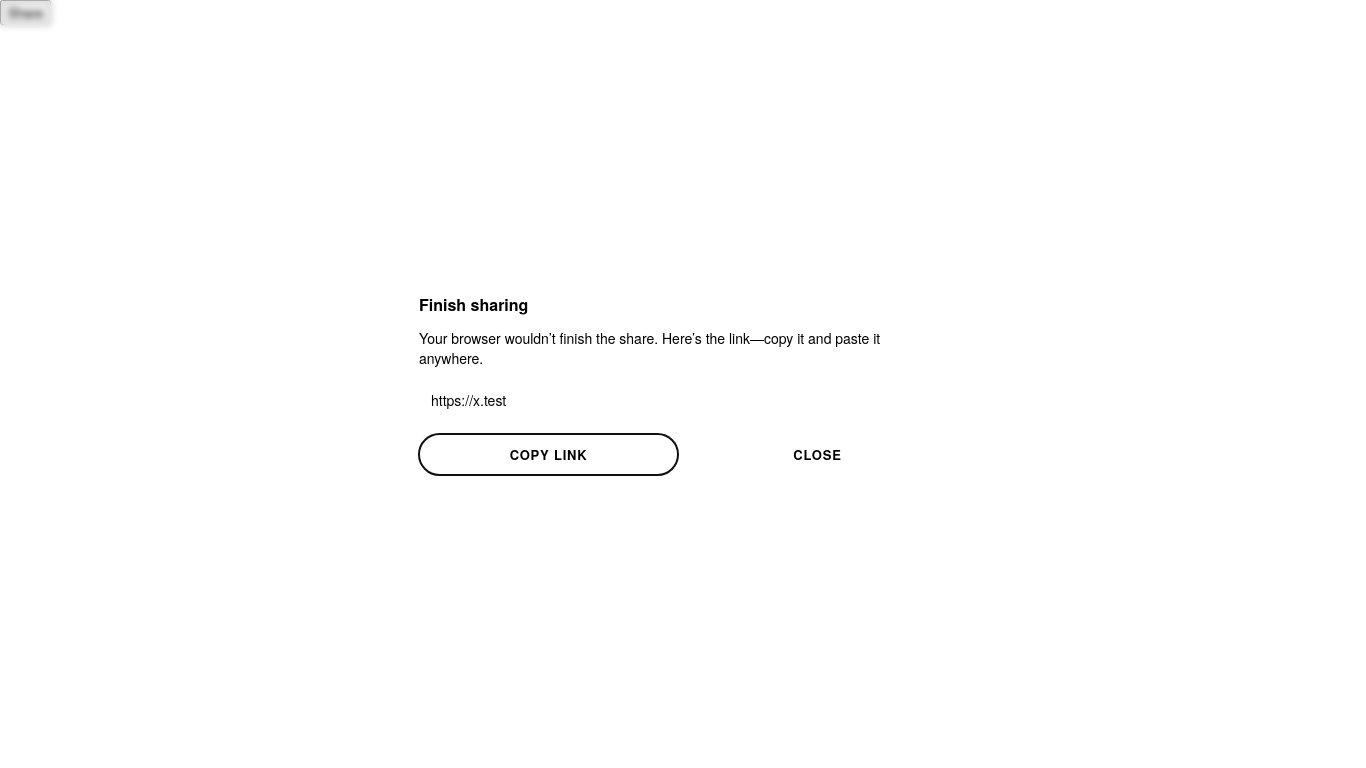
Test: shareCardBlob — native share sheet + fallback chain › does not let an abandoned backdrop mousedown steal focus on a later, unrelated Escape close (#760 follow-up)
The image size is (1366, 768).
Press the mouse on the element with class "share-fallback-backdrop" at (683, 384), box top-left (419, 293), bottom-right (947, 475)
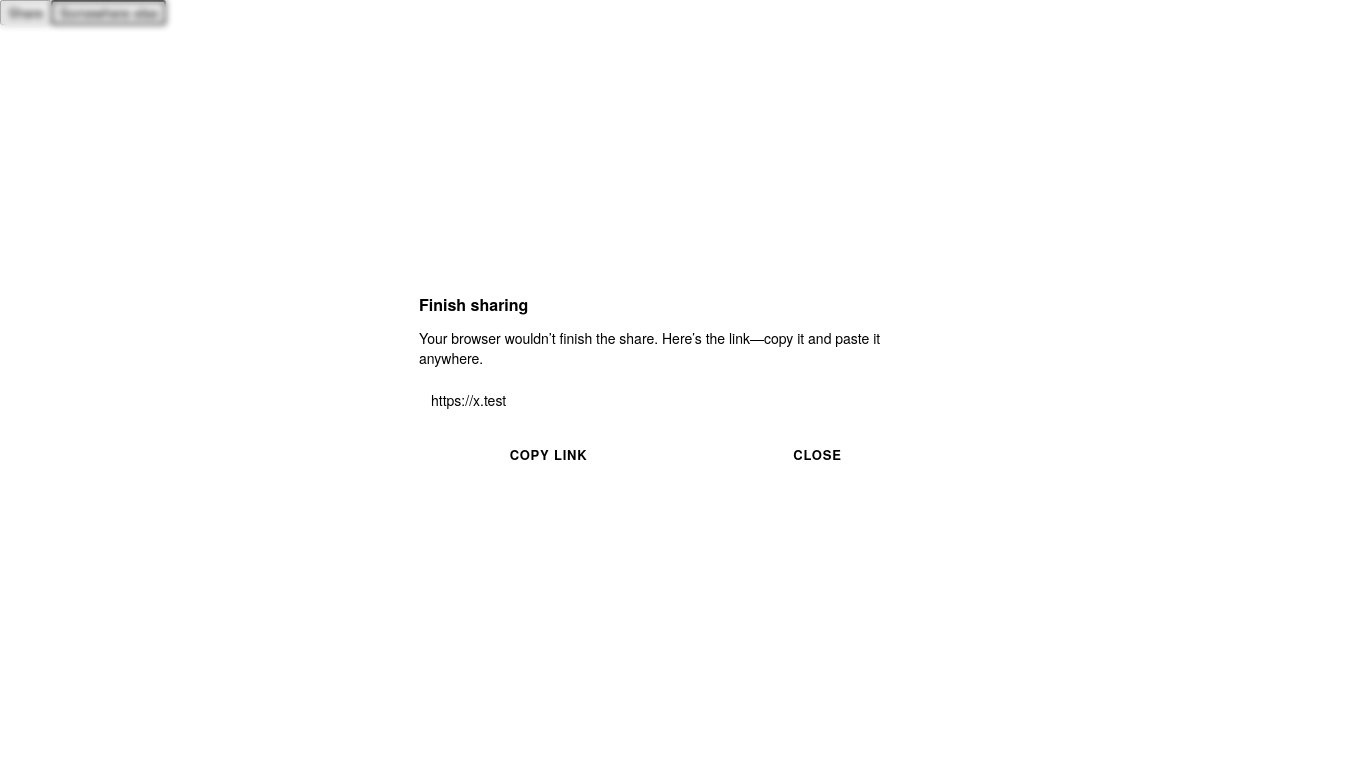
Press Escape
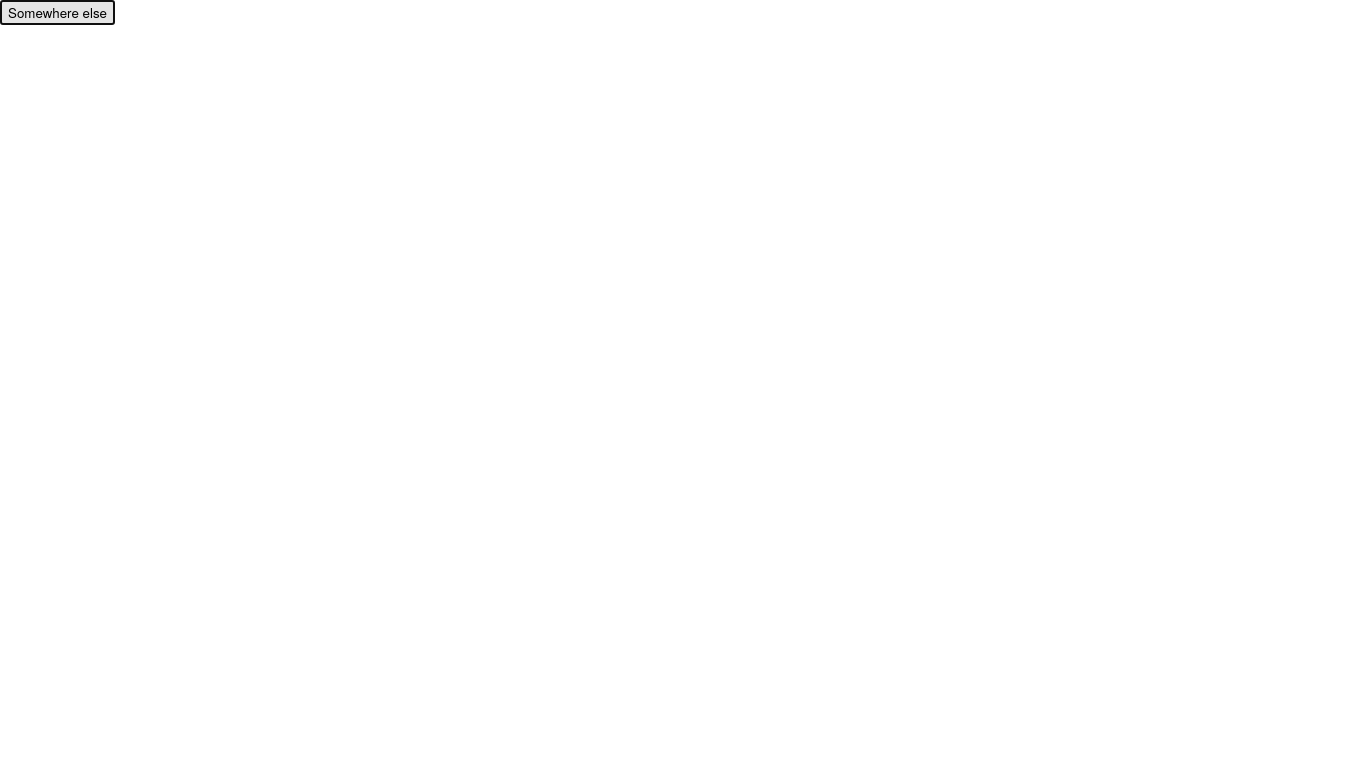
Expected: the element with class "share-fallback-backdrop" is gone
